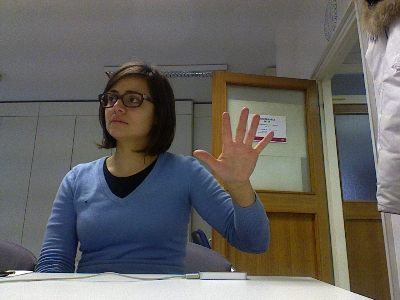布: (192, 105, 274, 182)
